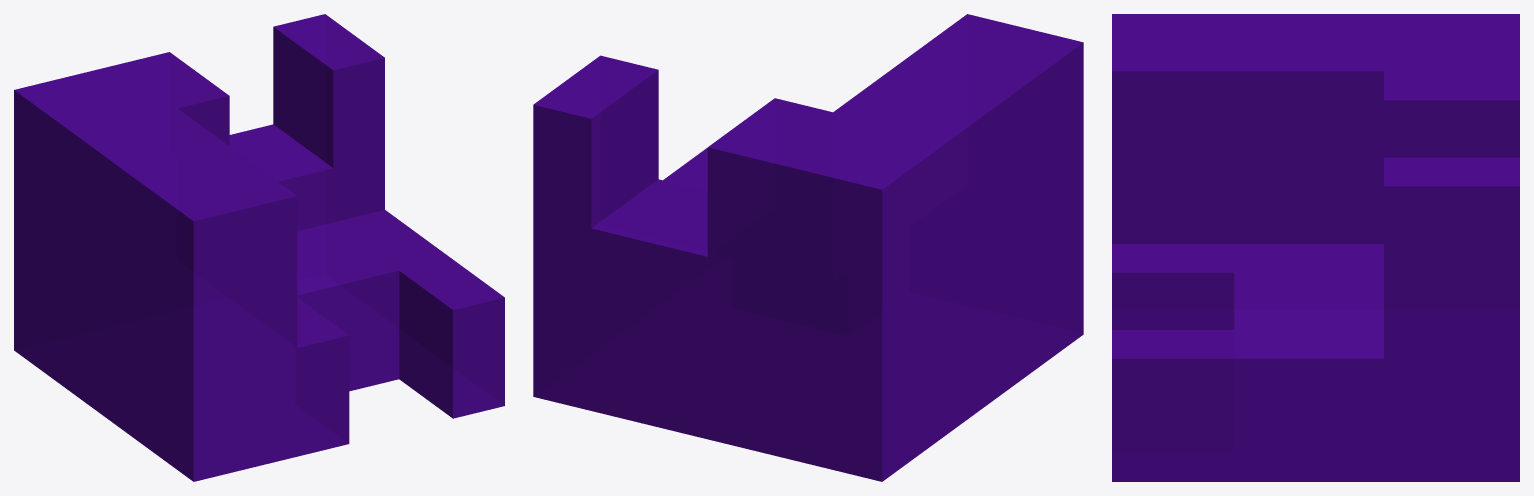
3 views of the same model, side by side, from view 1: azimuth 30°, elevation 25°; view 2: azimuth 150°, elevation 25°; view 3: azimuth 270°, elevation 25° (orthographic). The views are drawn at different scales.
Visible parts, largest first — view 1: SketchUp; view 2: SketchUp; view 3: SketchUp.
Boxes of the visible parts, box(x1,y1,x2,y2) form: SketchUp: box(14, 14, 504, 481); SketchUp: box(533, 14, 1083, 481); SketchUp: box(1112, 14, 1519, 481).
Bounding box in the file's own units: 59.06 × 59.06 × 47.24.
